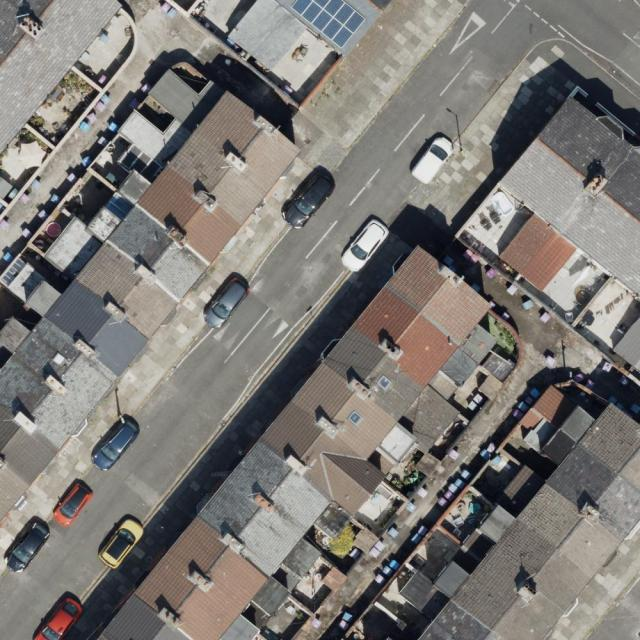roof: (97, 246, 498, 640), (0, 68, 302, 523), (397, 386, 640, 640), (498, 97, 640, 297), (0, 0, 123, 155), (227, 0, 392, 70), (615, 315, 640, 371)
skylight: (374, 373, 393, 393), (347, 408, 364, 425)
solar: (290, 0, 367, 49)
